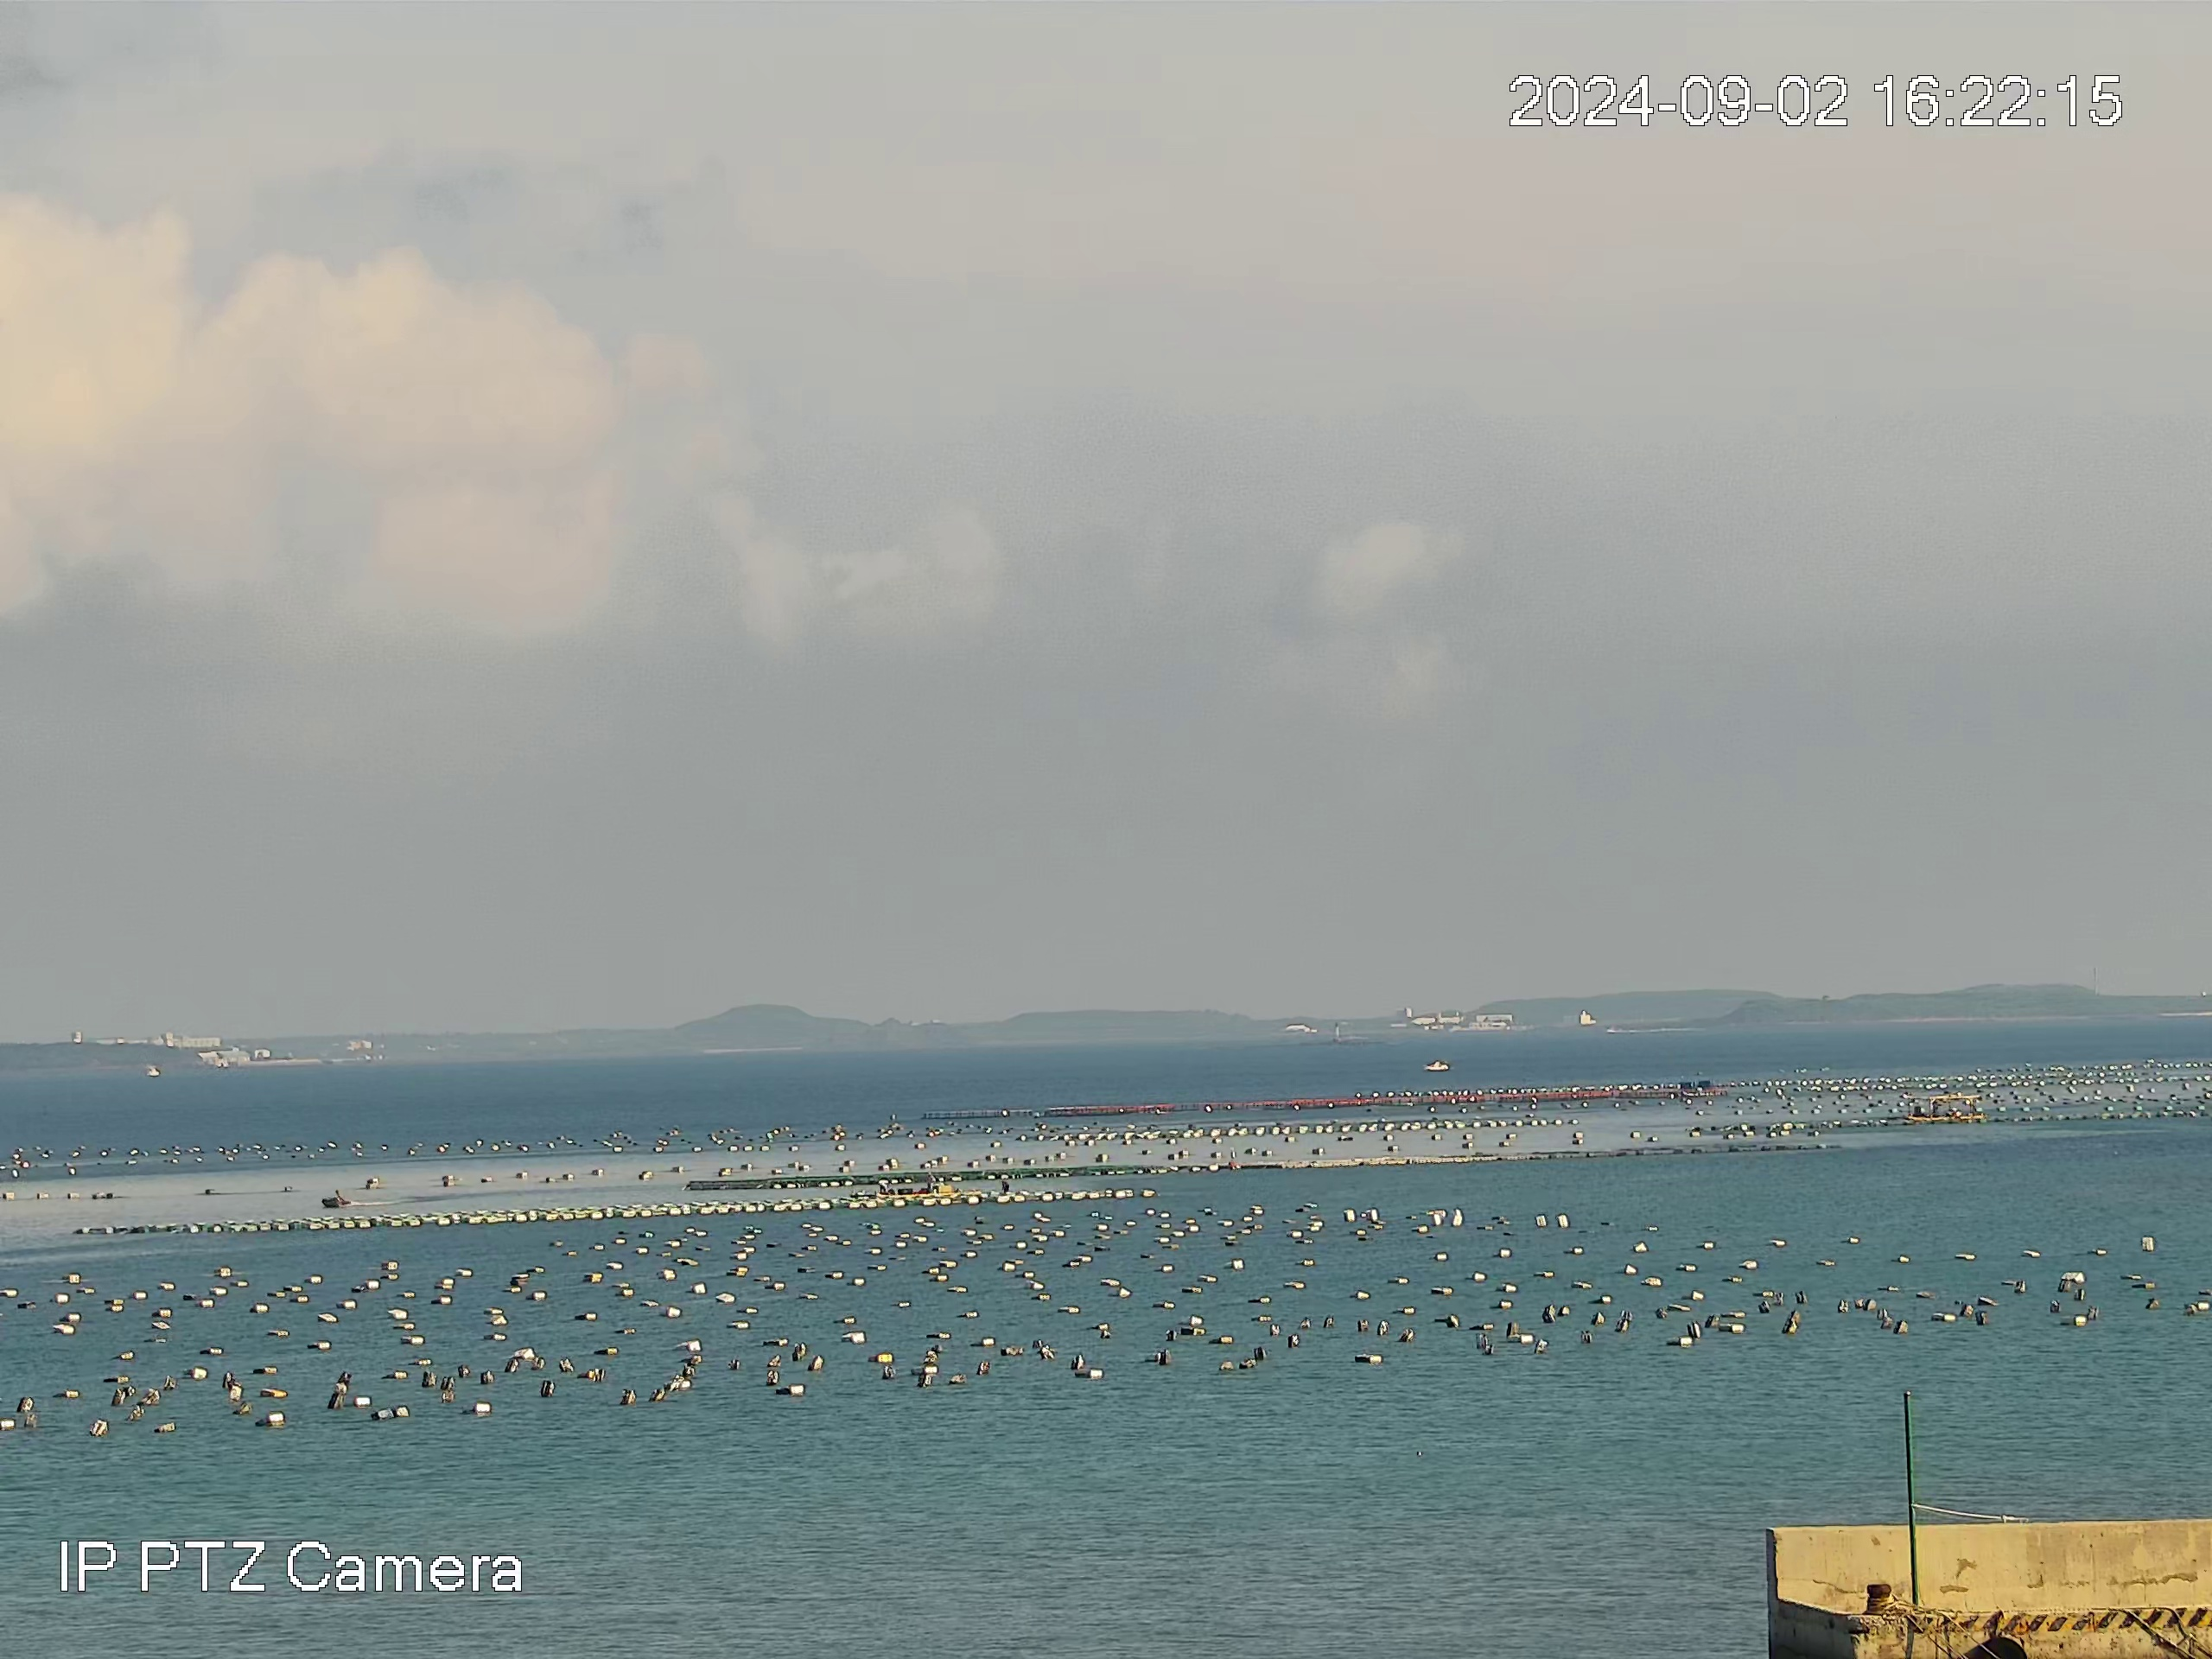boat: (1905, 1094, 1986, 1124), (874, 1173, 963, 1197), (320, 1188, 354, 1209), (1421, 1058, 1449, 1073)
